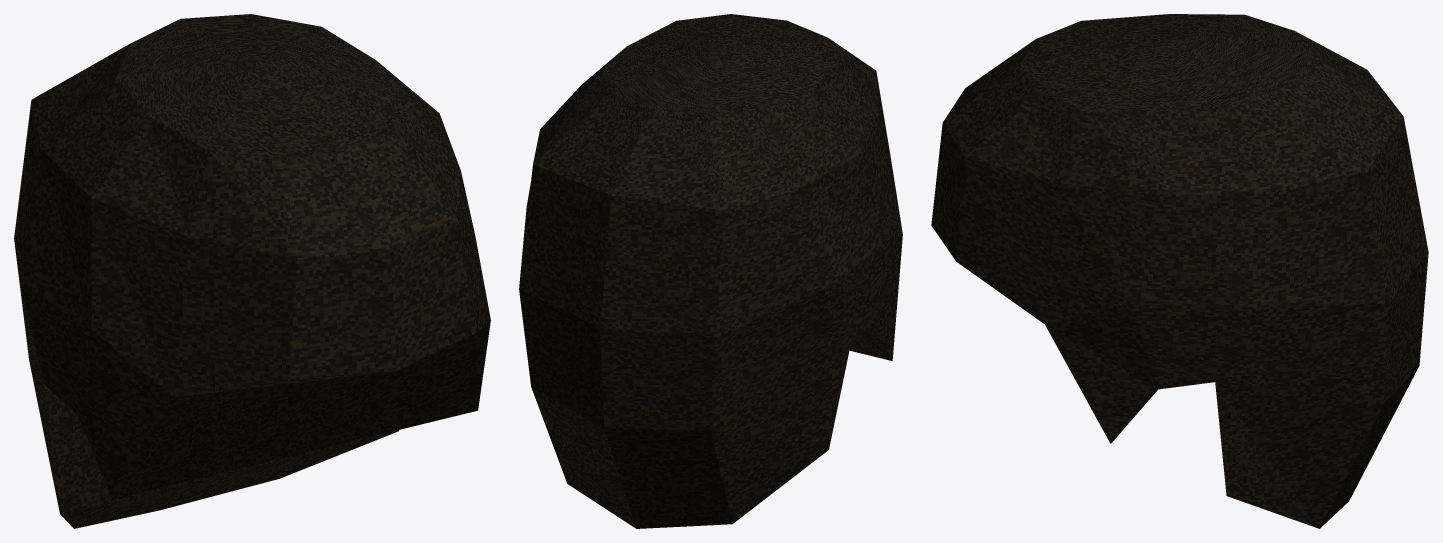
File: medium02.glb
The picture shows the model from 3 angles, left to right: view 1: azimuth 30°, elevation 25°; view 2: azimuth 150°, elevation 25°; view 3: azimuth 270°, elevation 25°; orthographic projection. The views are drawn at different scales.
Visible parts, largest first — view 1: obj_local_medium02; view 2: obj_local_medium02; view 3: obj_local_medium02.
Part boxes in pixels (x1,y1,x2,y2): obj_local_medium02: [14, 14, 490, 528]; obj_local_medium02: [519, 14, 902, 528]; obj_local_medium02: [931, 14, 1428, 528].
Bounding box in the file's own units: 0.173 × 0.224 × 0.219.
Materials: 1 (1 with a texture image).
